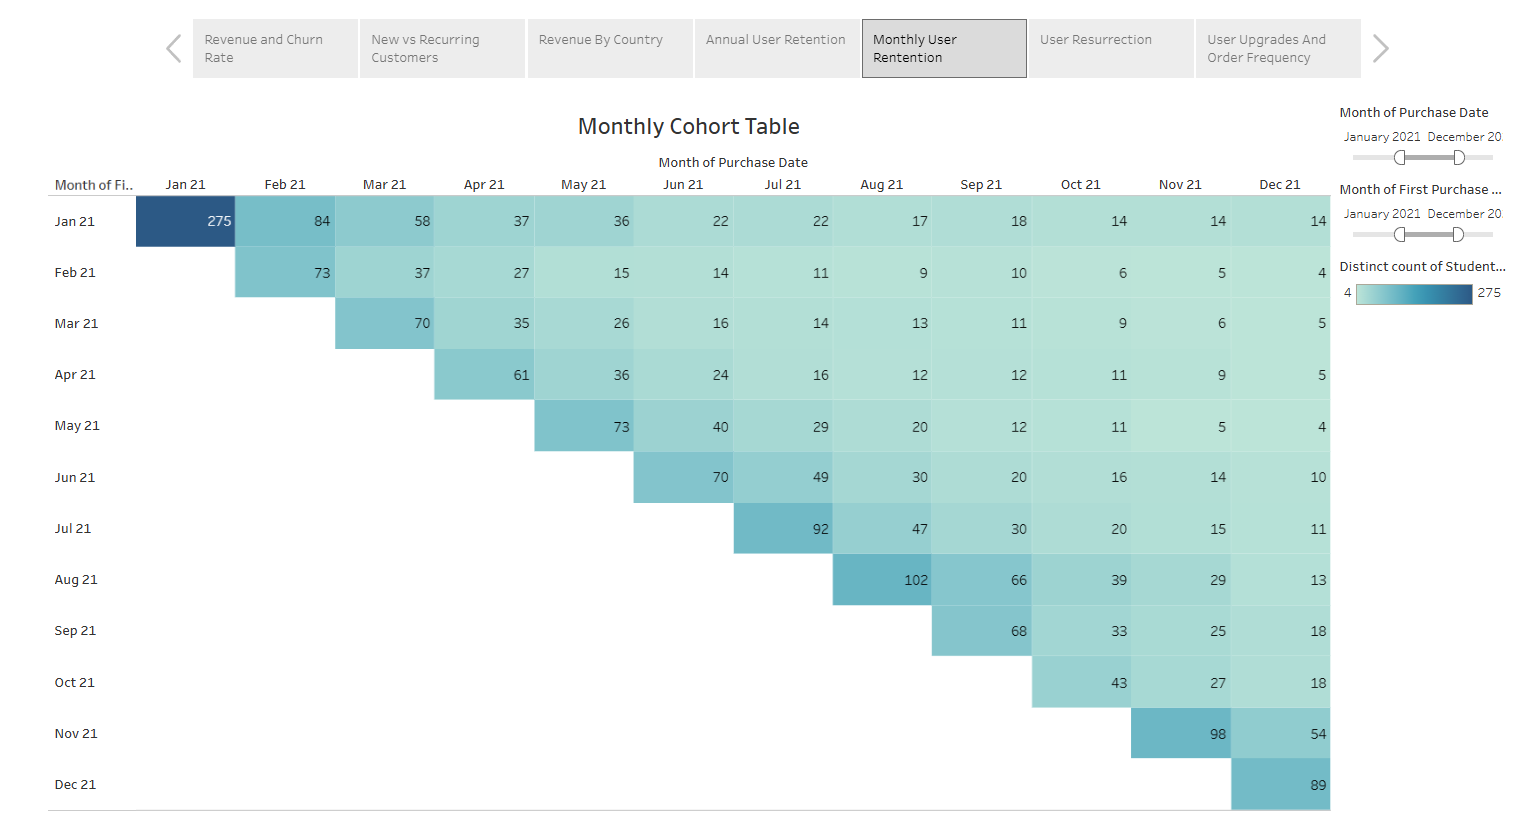

The page's visual inventory and layout, read from the dashboard file:
{"tool":"tableau","page":{"name":"monthly cohort D","canvas":[1350,667],"ordinal":6},"visuals":[{"type":"worksheet","title":"monthly cohort","mark":"Automatic","rows":["Calculation_524669385221435392"],"cols":["purchase date"],"box":[8,8,1174,651]},{"type":"filter","title":"monthly cohort","param":"[federated.0ye643o1ng4tpc146zdvq0j903w5].[tmn:purchase date:qk]","box":[1182,8,160,69]},{"type":"filter","title":"monthly cohort","param":"[federated.0ye643o1ng4tpc146zdvq0j903w5].[tmn:Calculation_524669385221435392:qk]","box":[1182,77,160,69]},{"type":"legend","title":"monthly cohort","param":"[federated.0ye643o1ng4tpc146zdvq0j903w5].[ctd:student_id:qk]","box":[1182,146,160,65]}]}

Visuals, with their boxes on the page's 1350x667 design canvas (x1, y1, x2, y2). These are canvas units, not pixel positions in the 1540x817 screenshot, which may show the page scaled, cropped or inside an application window:
"monthly cohort" worksheet: [left=8, top=8, right=1182, bottom=659]
"monthly cohort" filter: [left=1182, top=8, right=1342, bottom=77]
"monthly cohort" filter: [left=1182, top=77, right=1342, bottom=146]
"monthly cohort" legend: [left=1182, top=146, right=1342, bottom=211]
